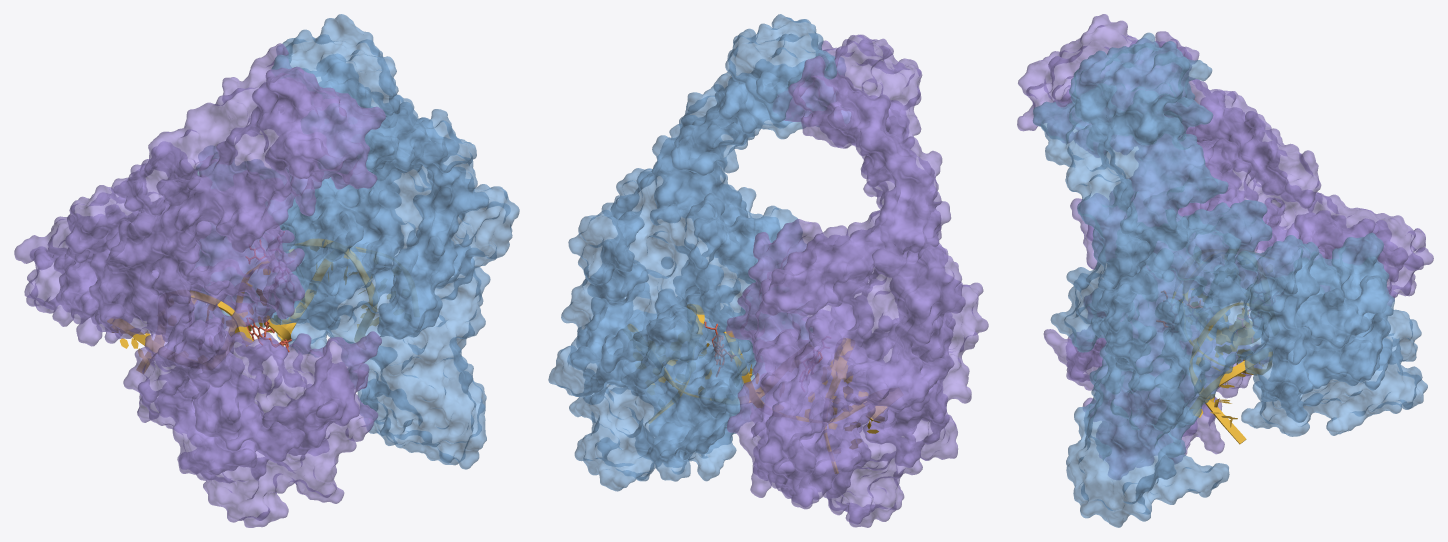
File: complex_dox.glb
3 renders of one model, left to right at view 1: azimuth 30°, elevation 25°; view 2: azimuth 150°, elevation 25°; view 3: azimuth 270°, elevation 25°, orthographic. The views are drawn at different scales.
Visible parts, largest first — view 1: complex_dox; view 2: complex_dox; view 3: complex_dox.
Part boxes in pixels (box(x1,y1,x2,y2)): complex_dox: box(14, 14, 519, 527); complex_dox: box(548, 14, 988, 527); complex_dox: box(1017, 14, 1433, 527).
Bounding box in the file's own units: 0.4323 × 0.4908 × 0.4023.
